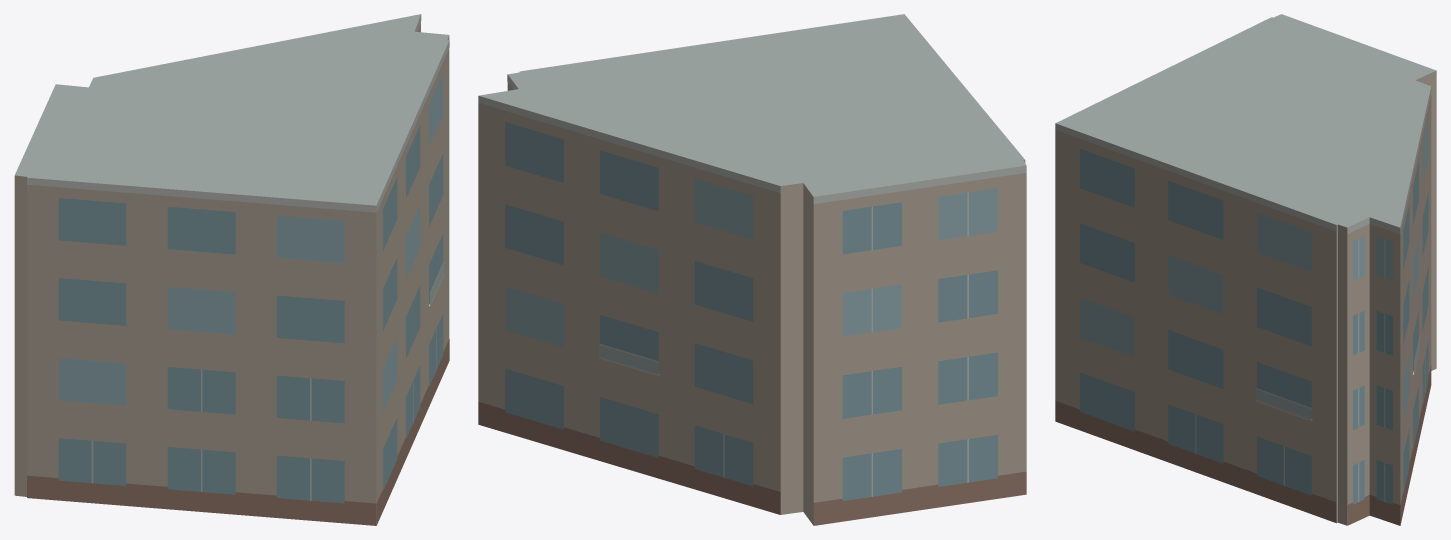
The model's file is survey-upis-32524906.glb.
3 renders of one model, left to right at view 1: azimuth 30°, elevation 25°; view 2: azimuth 150°, elevation 25°; view 3: azimuth 270°, elevation 25°, orthographic. The views are drawn at different scales.
Parts seen in each view (by area): view 1: survey-upis-32524906.tmp; view 2: survey-upis-32524906.tmp; view 3: survey-upis-32524906.tmp.
Boxes of the visible parts, x1=… form: survey-upis-32524906.tmp: x1=14, y1=14, x2=449, y2=525; survey-upis-32524906.tmp: x1=478, y1=14, x2=1026, y2=525; survey-upis-32524906.tmp: x1=1055, y1=14, x2=1436, y2=525.
Size of the model in its own units: 17.1 by 11.12 by 12.89.
